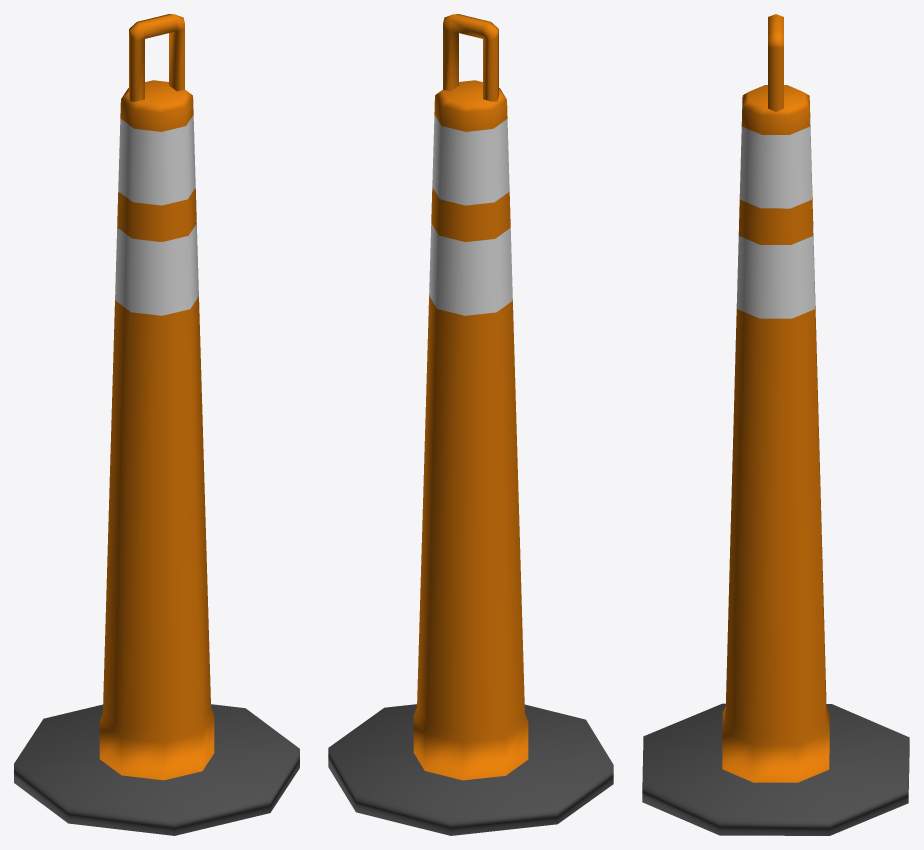
Rendered from Cone_tall.fbx.
3 renders of one model, left to right at view 1: azimuth 30°, elevation 25°; view 2: azimuth 150°, elevation 25°; view 3: azimuth 270°, elevation 25°, orthographic.
Visible parts, largest first — view 1: Cone_tall; view 2: Cone_tall; view 3: Cone_tall.
Part boxes in pixels (box(x1,y1,x2,y2)): Cone_tall: box(14, 14, 299, 835); Cone_tall: box(328, 14, 613, 835); Cone_tall: box(642, 14, 909, 835).
Bounding box in the file's own units: 14.87 × 46.51 × 14.87.
